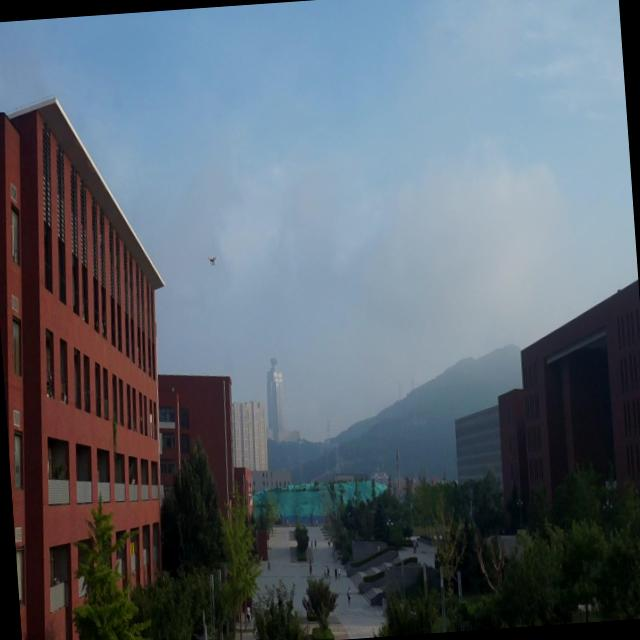drone: (203, 252, 220, 268)
